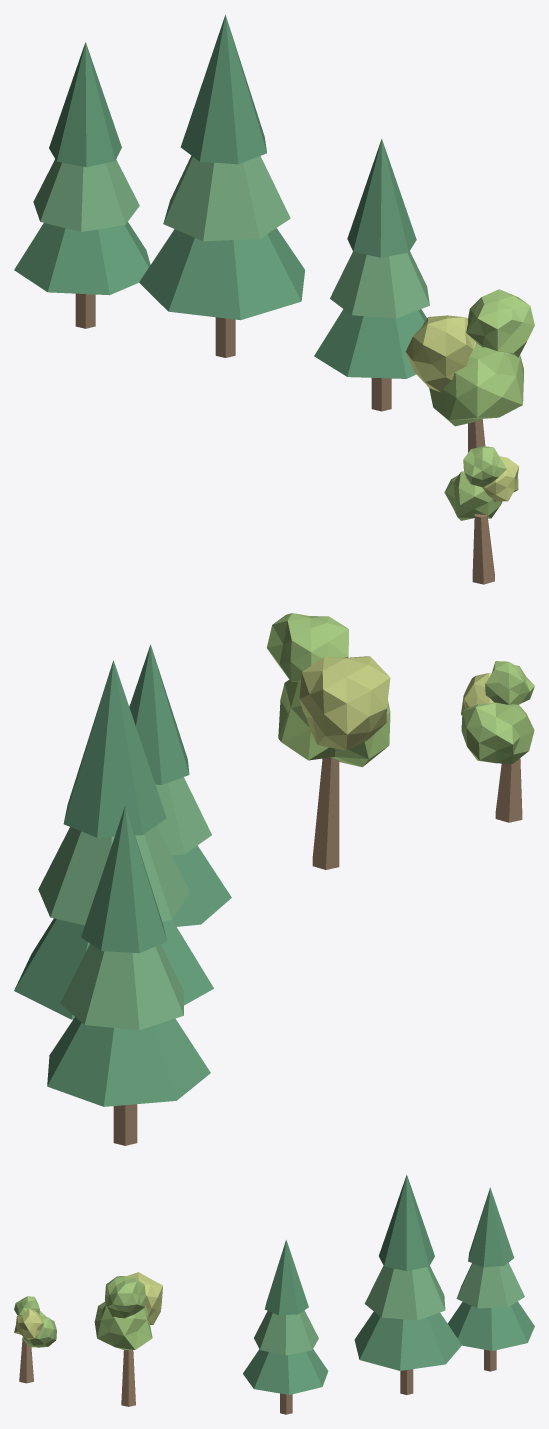
The model's file is props_right.glb.
The picture shows the model from 3 angles, top to bottom: view 1: azimuth 30°, elevation 25°; view 2: azimuth 150°, elevation 25°; view 3: azimuth 270°, elevation 25°; orthographic projection. The views are drawn at different scales.
Size of the model in its own units: 0.2033 by 0.2597 by 0.5618.
